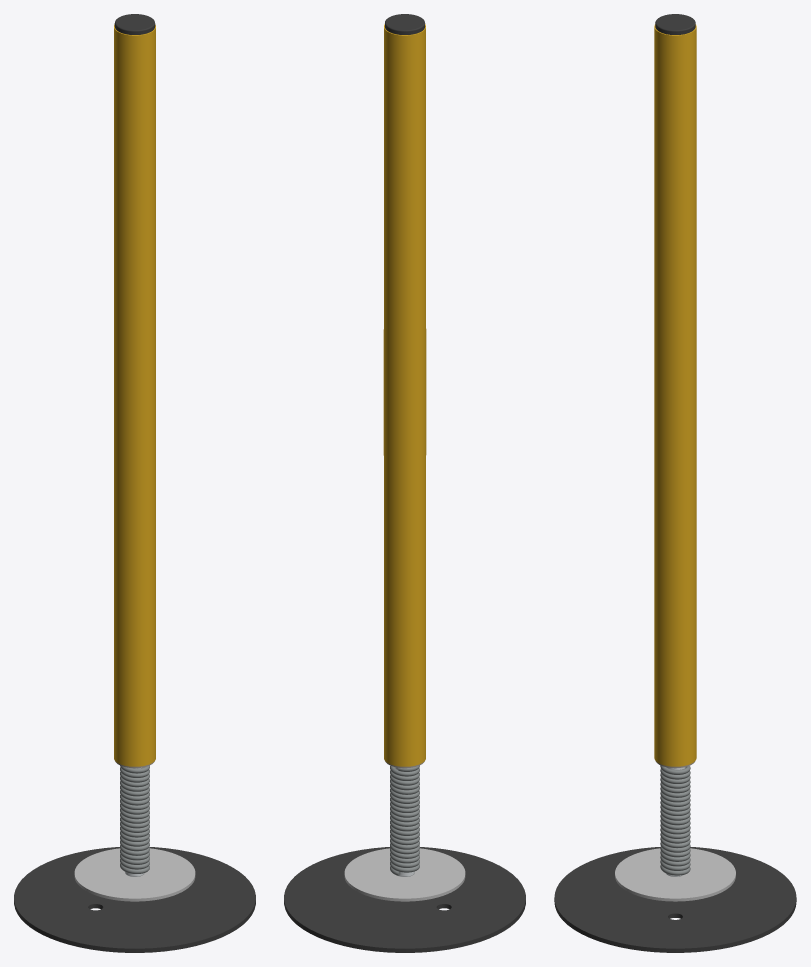
The model's file is Junction_Medium v1.fbx.
The picture shows the model from 3 angles, left to right: view 1: azimuth 30°, elevation 25°; view 2: azimuth 150°, elevation 25°; view 3: azimuth 270°, elevation 25°; orthographic projection.
Visible parts, largest first — view 1: Body1 (×5); view 2: Body1 (×5); view 3: Body1 (×5).
Part boxes in pixels (x1,y1,x2,y2): Body1 (×5): [14, 14, 255, 952]; Body1 (×5): [284, 14, 525, 952]; Body1 (×5): [554, 14, 796, 952].
Size of the model in its own units: 6 by 24.16 by 6.
